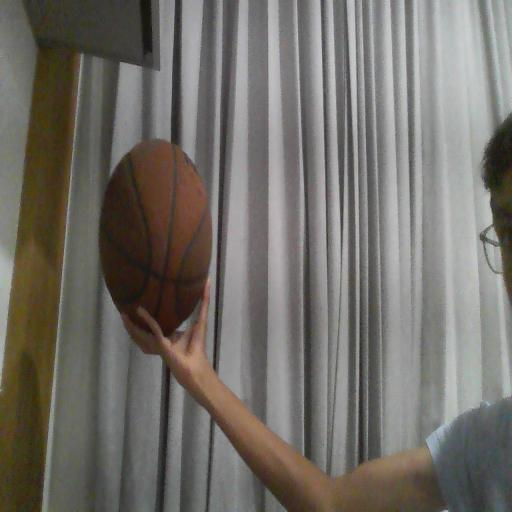basketball: (100, 140, 211, 334)
